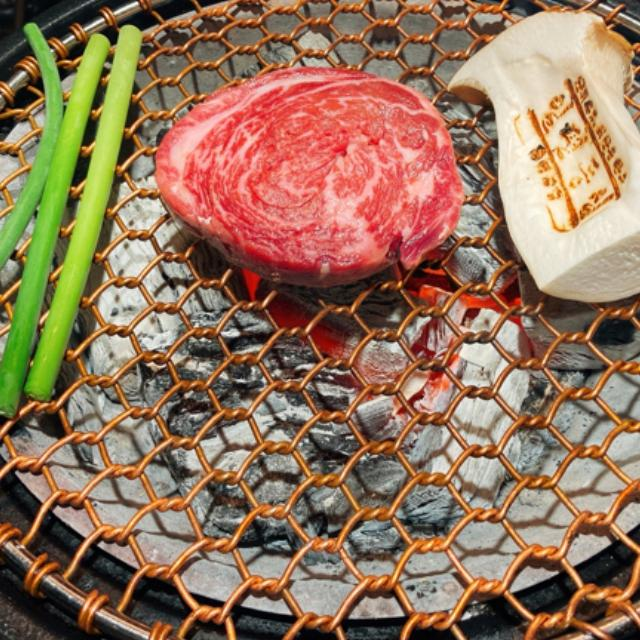beef: (200, 99, 431, 260)
